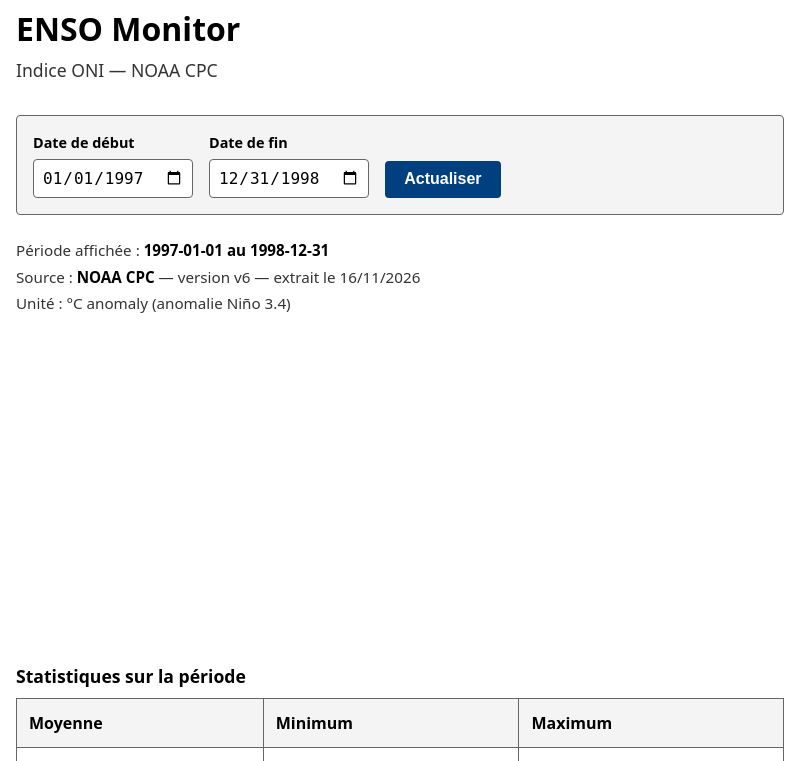
it: états de chargement et d’erreur › cache les anciennes données pendant le chargement et en cas d’erreur, puis permet de réessayer
Later steps or results of the test are not shown.
Type "2015-01-01" into the date field labelled "Date de début" at [113, 178], box [33,159,193,198]
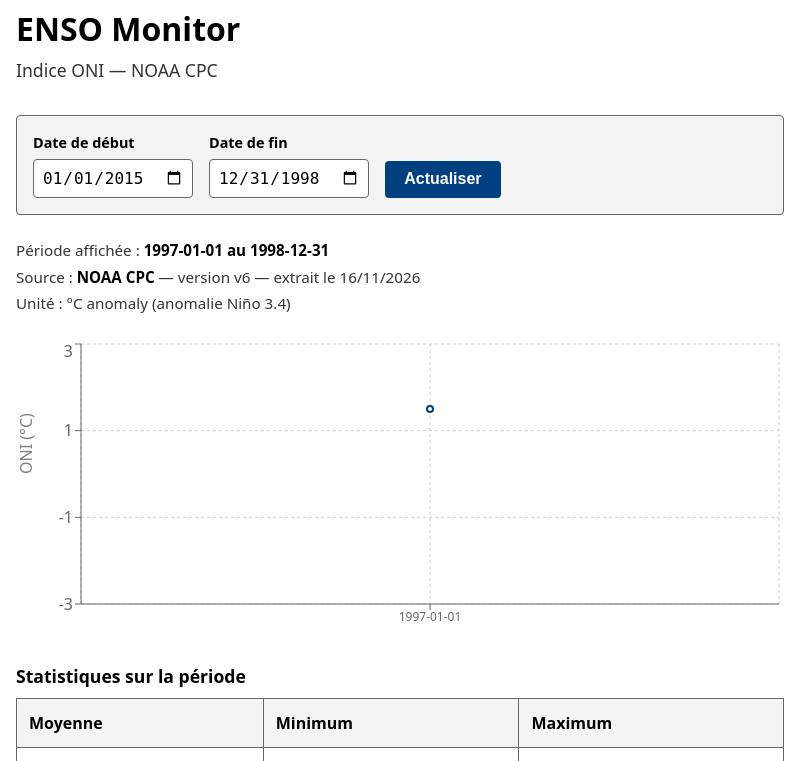
Type "2016-12-31" into the date field labelled "Date de fin" at [289, 178], box [209,159,369,198]
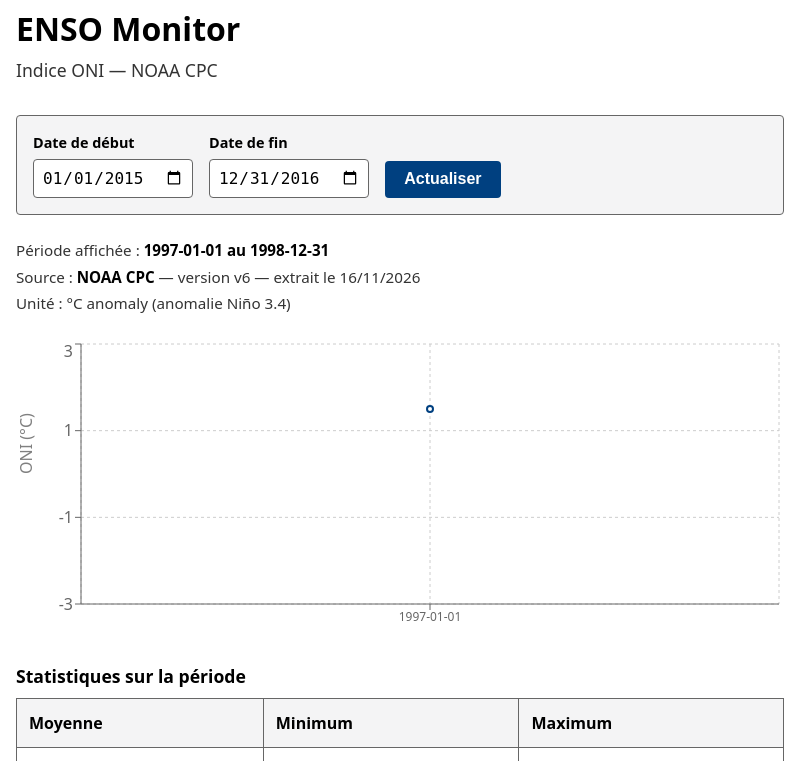
Expected: the picture named "1997-01-01 à 1998-12-31" is shown, [16,339,784,639]
Click the button "Actualiser" at [443, 179], box [385,161,501,198]
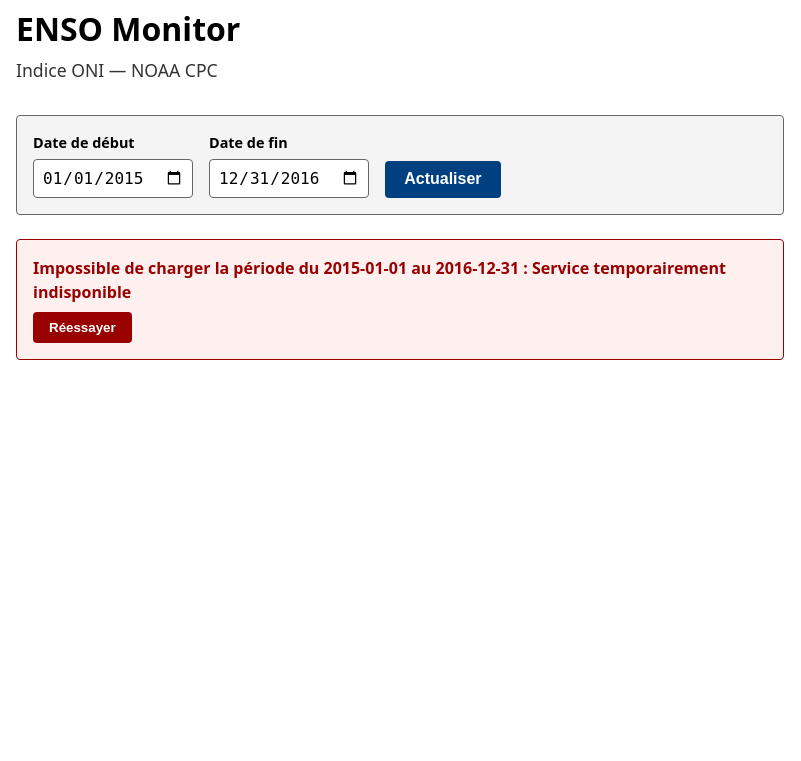
Expected: the text "Statistiques sur la période" is gone
Expected: the message shows "Service temporairement indisponible", [33,257,726,303]
Click the button "Réessayer" at [82, 327], box [33,312,132,343]
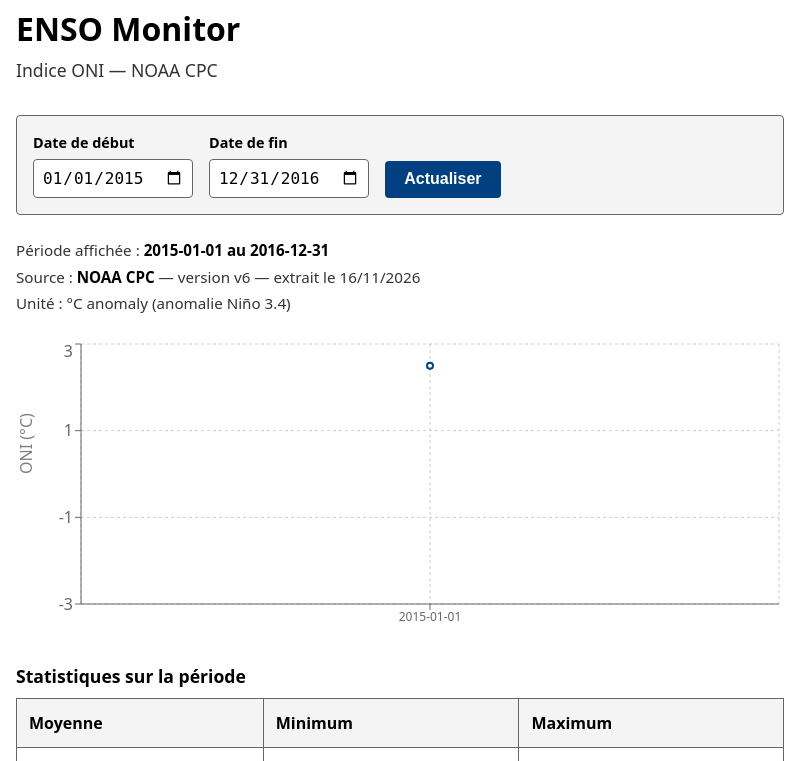
Expected: the picture named "2015-01-01 à 2016-12-31" is shown, [16,339,784,639]
Expected: the message is gone
